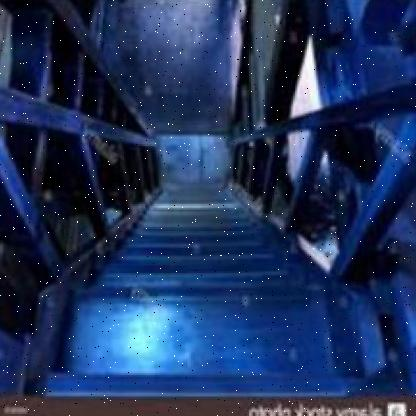stair_down: (70, 221, 322, 318)
